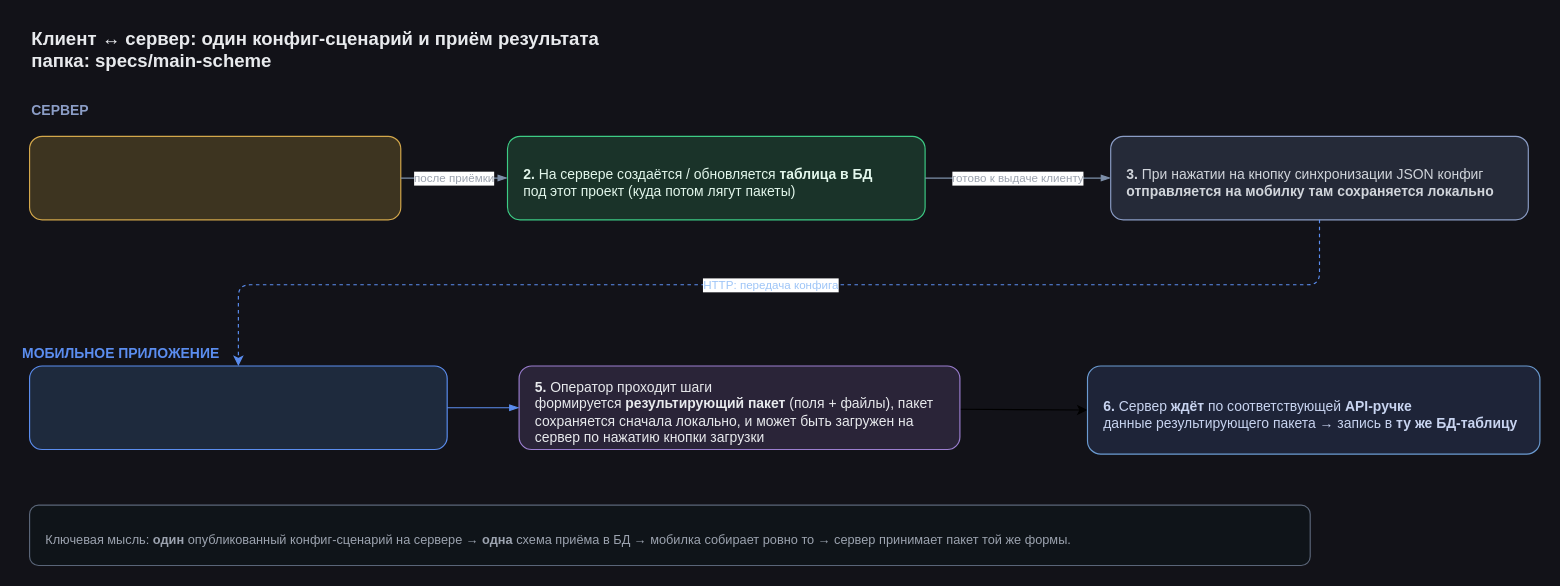
This 1560x586 diagram has some shape labels left out. Each missing label, with the box of its shape:
1. Создание JSON конфига на сервере: (28, 135, 401, 220)
4. Мобилка показывает сбор по сценарию опирается на поля и экраны из конфига: (28, 365, 447, 449)
